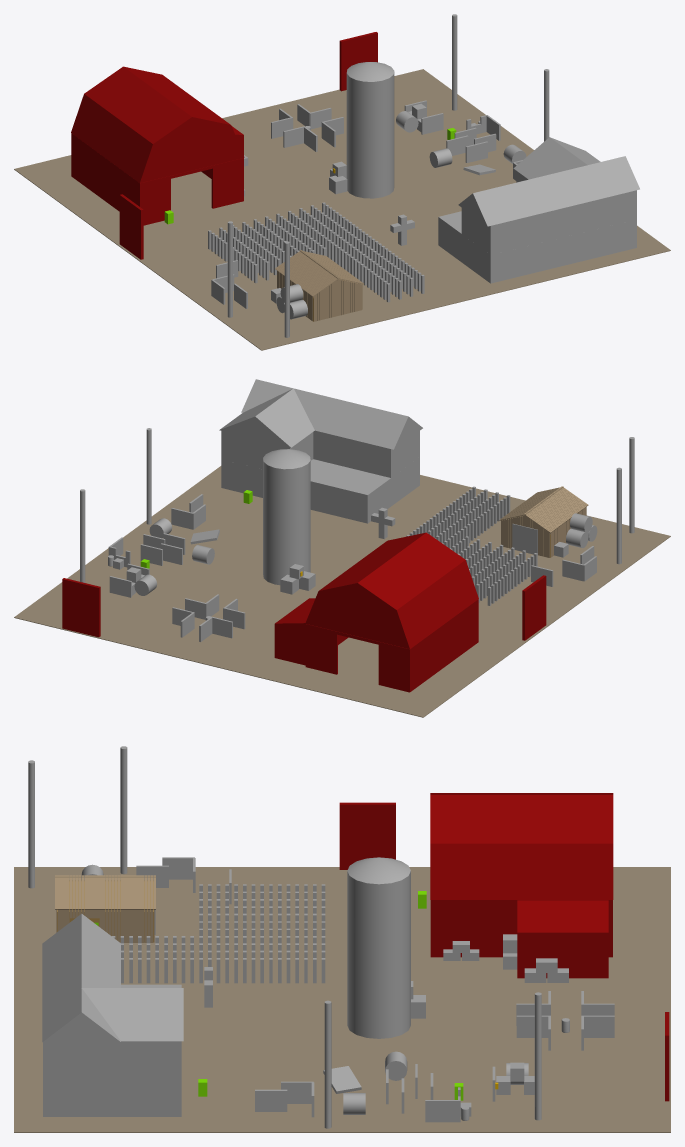
File: famrtest.fbx
The picture shows the model from 3 angles, top to bottom: view 1: azimuth 30°, elevation 25°; view 2: azimuth 150°, elevation 25°; view 3: azimuth 270°, elevation 25°; orthographic projection. The views are drawn at different scales.
Parts seen in each view (by area): view 1: Corn71; view 2: Corn71; view 3: Corn71.
Boxes of the visible parts, left/top/right/bottom form: Corn71: left=14, top=14, right=670, bottom=350; Corn71: left=14, top=379, right=670, bottom=717; Corn71: left=14, top=746, right=670, bottom=1132.
Bounding box in the file's own units: 71.71 × 21.85 × 75.12.
